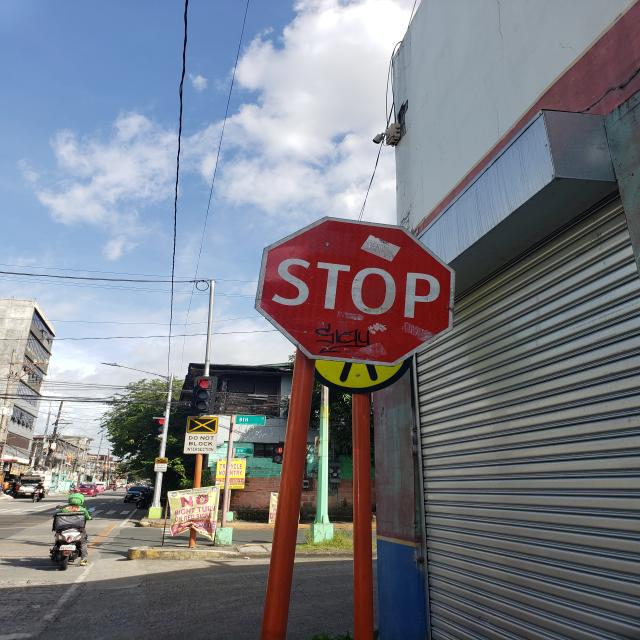stop-sign: (254, 215, 456, 368)
